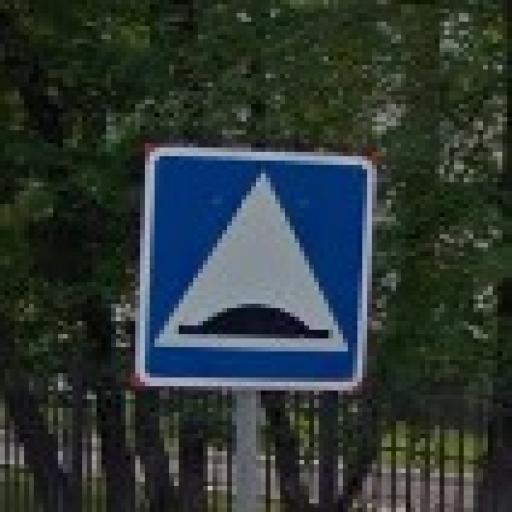traffic_sign: (131, 144, 378, 387)
